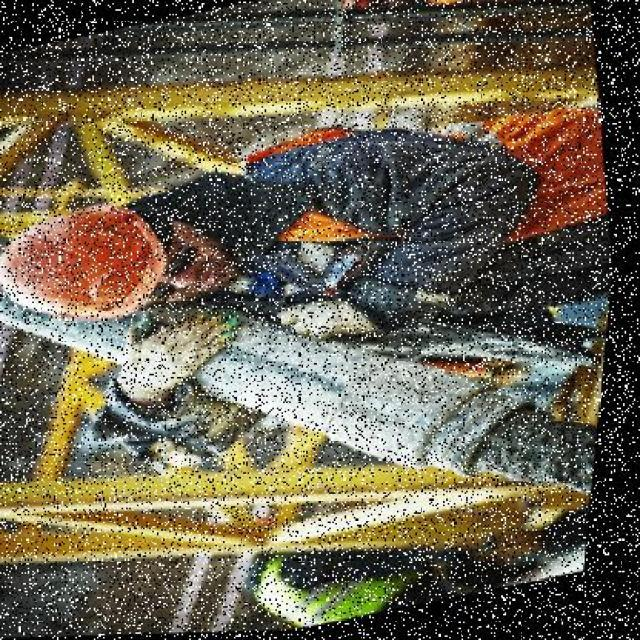helmet: (0, 187, 186, 334)
